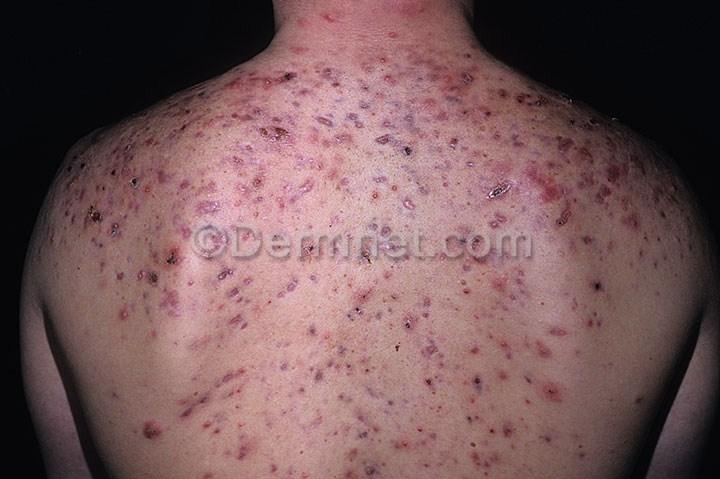Acne: (289, 298, 568, 471), (54, 144, 259, 338), (211, 76, 456, 236), (464, 104, 619, 279)
